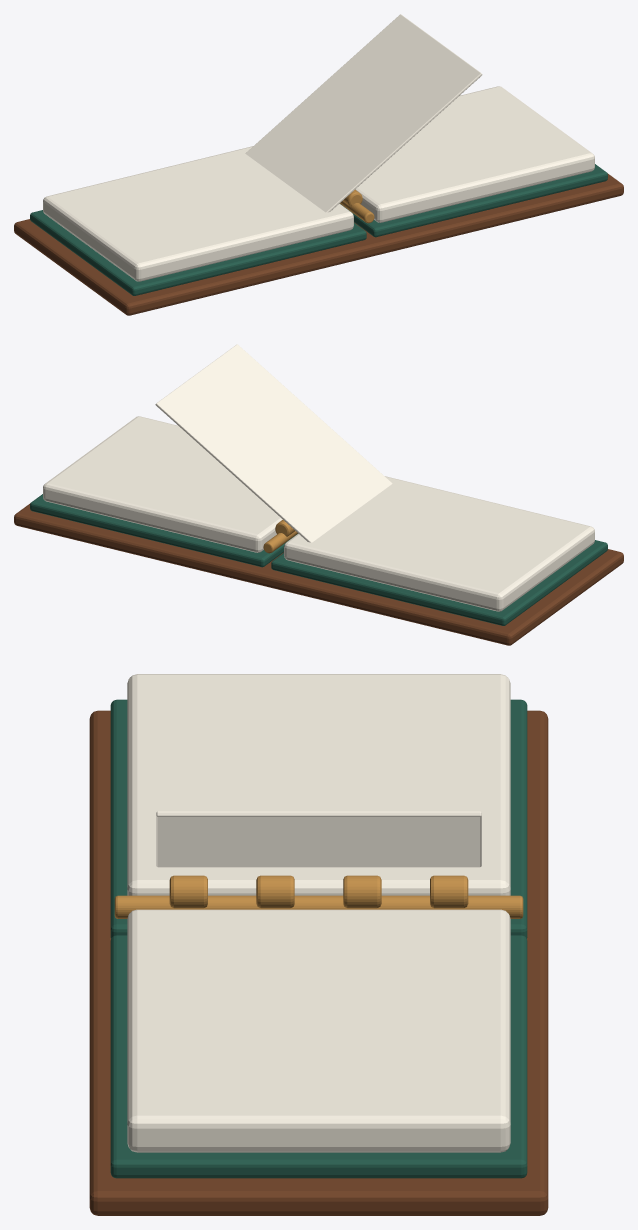
Rendered from hybrid-archive-planner-page-turn.glb.
The picture shows the model from 3 angles, top to bottom: view 1: azimuth 30°, elevation 25°; view 2: azimuth 150°, elevation 25°; view 3: azimuth 270°, elevation 25°; orthographic projection. The views are drawn at different scales.
Visible parts, largest first — view 1: Left page block, Turning page, Right page block, Walnut desk base, Left leather cover, Right leather cover; view 2: Left page block, Turning page, Right page block, Walnut desk base, Left leather cover, Right leather cover; view 3: Right page block, Left page block, Walnut desk base, Right leather cover, Turning page, Left leather cover, Brass spine, Spine ring 2, Spine ring 3, Spine ring 1, Spine ring 4.
Part boxes in pixels (box(x1,y1,x2,y2)): Left page block: box(43, 146, 353, 281); Turning page: box(245, 14, 482, 212); Right page block: box(355, 86, 594, 222); Walnut desk base: box(14, 173, 623, 315); Left leather cover: box(30, 210, 366, 295); Right leather cover: box(340, 164, 607, 237); Left page block: box(284, 476, 594, 611); Turning page: box(155, 344, 392, 542); Right page block: box(43, 416, 282, 552); Walnut desk base: box(14, 503, 623, 645); Left leather cover: box(271, 540, 607, 625); Right leather cover: box(30, 494, 297, 567); Right page block: box(127, 909, 510, 1152); Left page block: box(127, 674, 510, 895); Walnut desk base: box(89, 710, 548, 1215); Right leather cover: box(110, 935, 527, 1178); Turning page: box(156, 811, 481, 867); Left leather cover: box(110, 699, 527, 938); Brass spine: box(114, 895, 523, 918); Spine ring 2: box(256, 875, 294, 908); Spine ring 3: box(343, 875, 381, 908); Spine ring 1: box(169, 875, 207, 908); Spine ring 4: box(430, 875, 468, 908).
Size of the model in its own units: 6.9 by 1.87 by 2.75.
